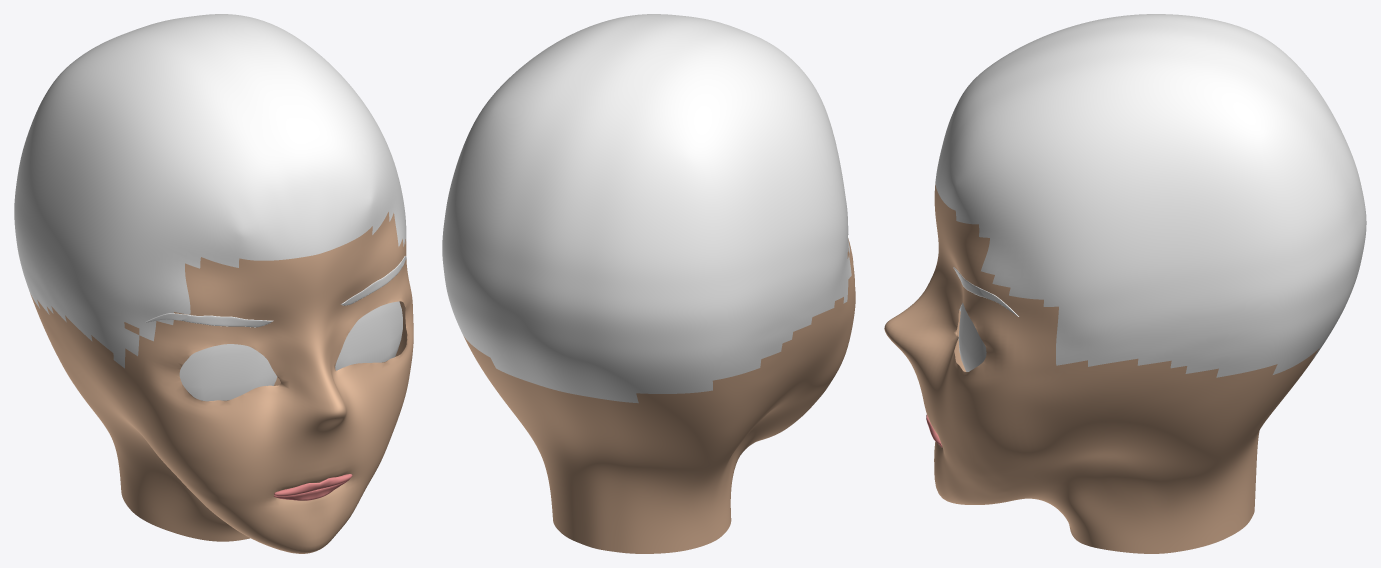
Rendered from 11-RubberWoman.fbx.
3 views of the same model, side by side, from view 1: azimuth 30°, elevation 25°; view 2: azimuth 150°, elevation 25°; view 3: azimuth 270°, elevation 25° (orthographic). The views are drawn at different scales.
Visible parts, largest first — view 1: Cube.001, Circle, Plane.002, Plane.001; view 2: Cube.001; view 3: Cube.001, Circle.
Part boxes in pixels (x1,y1,x2,y2): Cube.001: (14, 14, 413, 553); Circle: (179, 301, 402, 401); Plane.002: (145, 256, 406, 327); Plane.001: (273, 474, 352, 500); Cube.001: (442, 14, 855, 553); Cube.001: (884, 14, 1366, 553); Circle: (958, 303, 986, 371).
Size of the model in its own units: 44.74 by 64.37 by 57.04.
